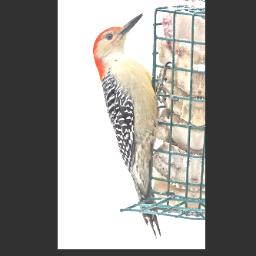Woodpecker: (82, 6, 176, 241)
